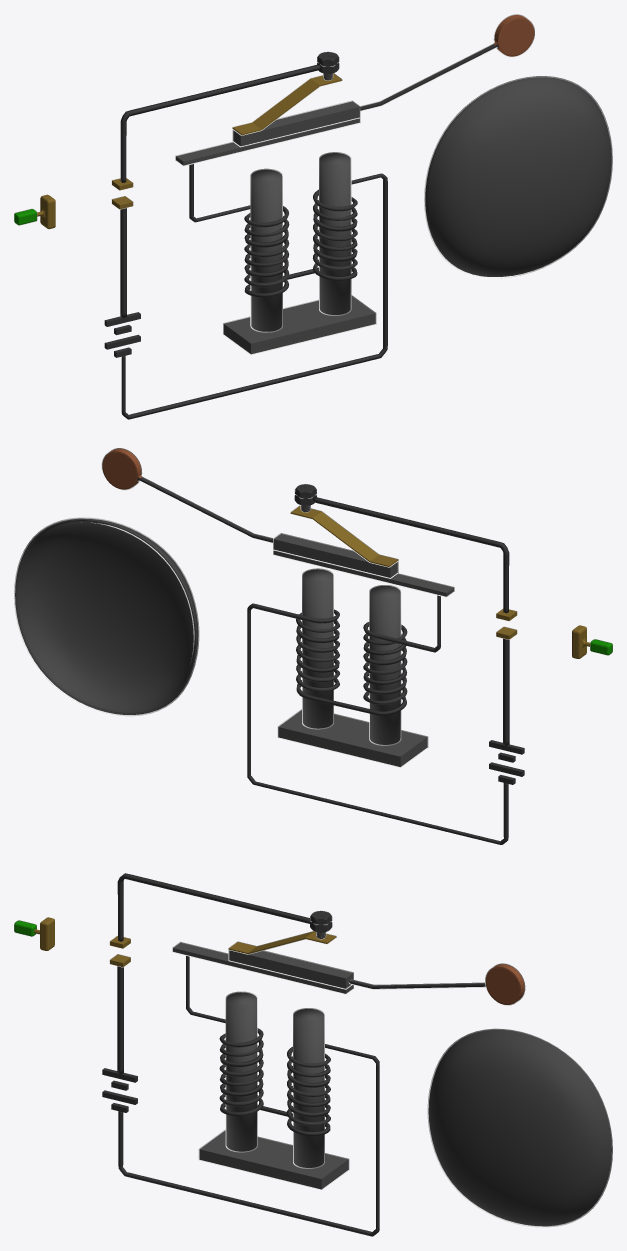
The model's file is ElectricBell.glb.
The picture shows the model from 3 angles, top to bottom: view 1: azimuth 30°, elevation 25°; view 2: azimuth 150°, elevation 25°; view 3: azimuth 330°, elevation 25°; orthographic projection.
Parts seen in each view (by area): view 1: Cube, Spiral, Cylinder.001, Cylinder.002, Cube.002, Cylinder, Cube.003, Spiral.001, Cube.001, Plane.002, Cube.007, Spiral.002; view 2: Cube, Spiral, Cylinder.001, Cylinder.002, Cube.002, Cylinder, Cube.003, Spiral.001, Cube.001, Plane.002, Cube.007, Spiral.002; view 3: Cube, Spiral, Cylinder.001, Cylinder.002, Cube.002, Cube.003, Cylinder, Spiral.001, Cube.001, Plane.002, Cube.007, Spiral.002.
Part boxes in pixels (left/top/right/bottom): Cube: left=424, top=76, right=612, bottom=278; Spiral: left=121, top=164, right=387, bottom=419; Cylinder.001: left=250, top=168, right=282, bottom=332; Cylinder.002: left=319, top=152, right=351, bottom=315; Cube.002: left=223, top=295, right=376, bottom=355; Cylinder: left=360, top=14, right=534, bottom=111; Cube.003: left=232, top=100, right=360, bottom=147; Spiral.001: left=120, top=64, right=320, bottom=182; Cube.001: left=175, top=118, right=360, bottom=166; Plane.002: left=232, top=73, right=342, bottom=135; Cube.007: left=14, top=194, right=55, bottom=229; Spiral.002: left=120, top=208, right=126, bottom=317; Cube: left=14, top=517, right=199, bottom=716; Spiral: left=247, top=595, right=508, bottom=844; Cylinder.001: left=369, top=585, right=401, bottom=745; Cylinder.002: left=302, top=568, right=333, bottom=729; Cube.002: left=277, top=709, right=428, bottom=767; Cylinder: left=101, top=448, right=272, bottom=543; Cube.003: left=273, top=533, right=398, bottom=578; Spiral.001: left=313, top=497, right=509, bottom=613; Cube.001: left=273, top=550, right=454, bottom=597; Plane.002: left=290, top=505, right=398, bottom=567; Cube.007: left=572, top=625, right=612, bottom=658; Spiral.002: left=503, top=638, right=509, bottom=745; Cube: left=427, top=1028, right=612, bottom=1227; Spiral: left=118, top=956, right=379, bottom=1236; Cylinder.001: left=225, top=991, right=257, bottom=1152; Cylinder.002: left=293, top=1008, right=324, bottom=1168; Cube.002: left=198, top=1129, right=349, bottom=1190; Cube.003: left=228, top=950, right=353, bottom=989; Cylinder: left=348, top=963, right=525, bottom=1005; Spiral.001: left=117, top=873, right=310, bottom=941; Cube.001: left=172, top=941, right=353, bottom=994; Plane.002: left=228, top=931, right=336, bottom=954; Cube.007: left=14, top=917, right=54, bottom=950; Spiral.002: left=117, top=966, right=123, bottom=1074.
Bounding box in the file's own units: 18.45 × 9.22 × 1.65.
